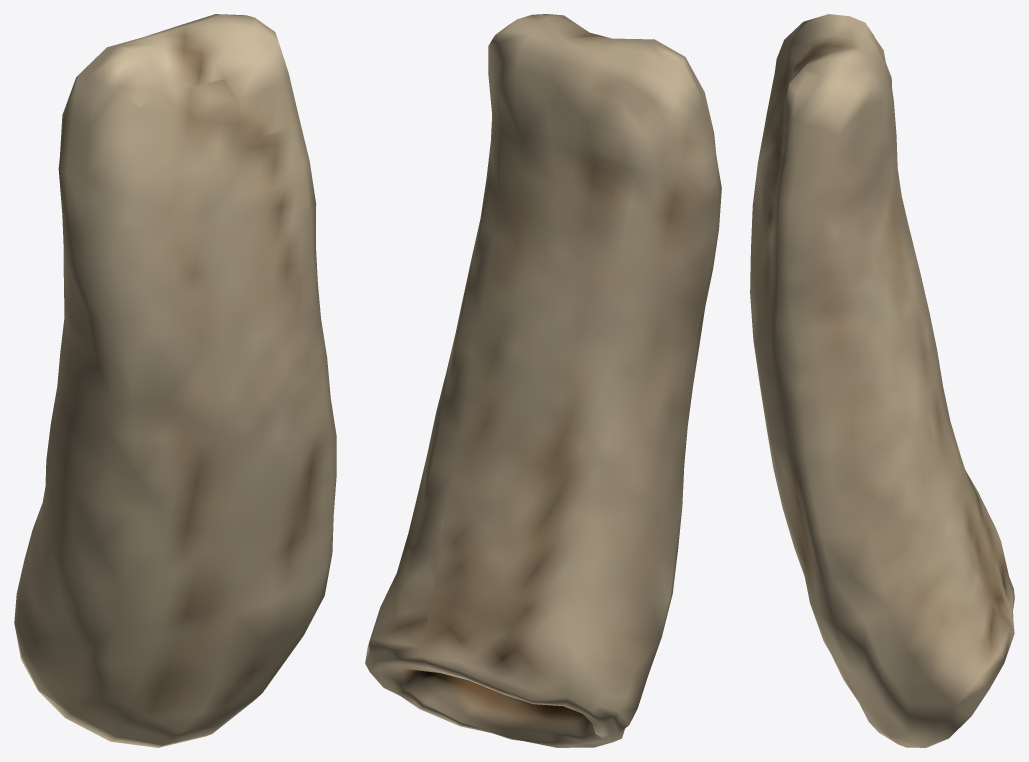
The model's file is Upper_Incisor.glb.
3 views of the same model, side by side, from view 1: azimuth 30°, elevation 25°; view 2: azimuth 150°, elevation 25°; view 3: azimuth 270°, elevation 25° (orthographic). The views are drawn at different scales.
Visible parts, largest first — view 1: Upper_Incisor.glb; view 2: Upper_Incisor.glb; view 3: Upper_Incisor.glb.
Part boxes in pixels (box(x1,y1,x2,y2)): Upper_Incisor.glb: box(14, 14, 336, 747); Upper_Incisor.glb: box(365, 14, 721, 747); Upper_Incisor.glb: box(750, 14, 1014, 747).
Size of the model in its own units: 0.0139 by 0.0335 by 0.0119.
Materials: 1 (1 with a texture image).
